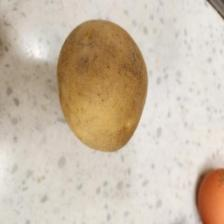Potato: (54, 17, 151, 154)
